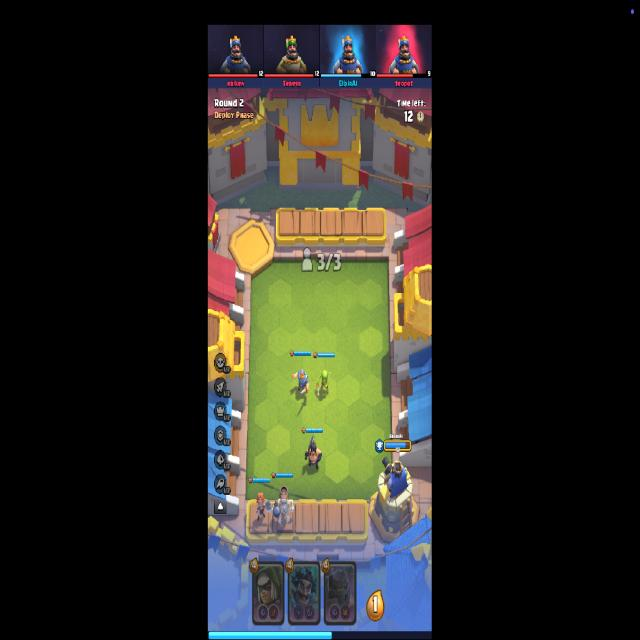card_bandit: (252, 560, 284, 626)
card_e_wiz: (288, 560, 322, 626)
card_mega_knight: (324, 563, 356, 625)
executioner: (304, 434, 322, 471)
giant_skeleton: (272, 486, 294, 526)
goblin: (316, 370, 331, 398)
knight: (292, 368, 310, 397)
valkyrie: (256, 494, 271, 522)
